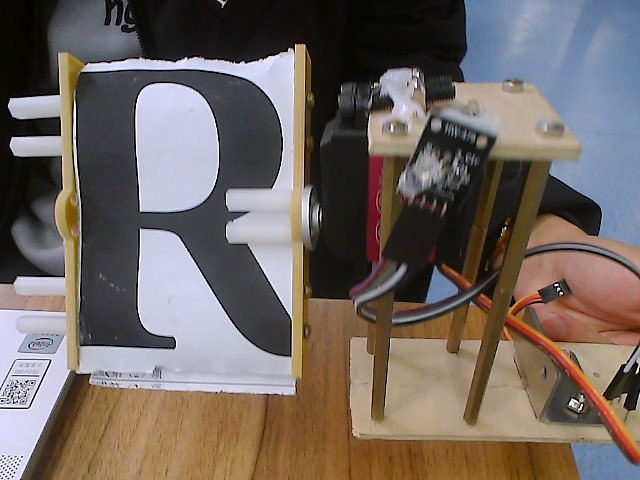R: (5, 26, 378, 453)
